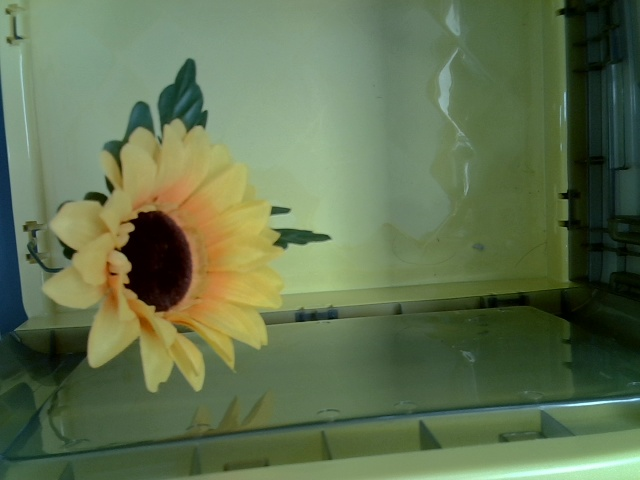해바라기: (42, 120, 287, 392)
